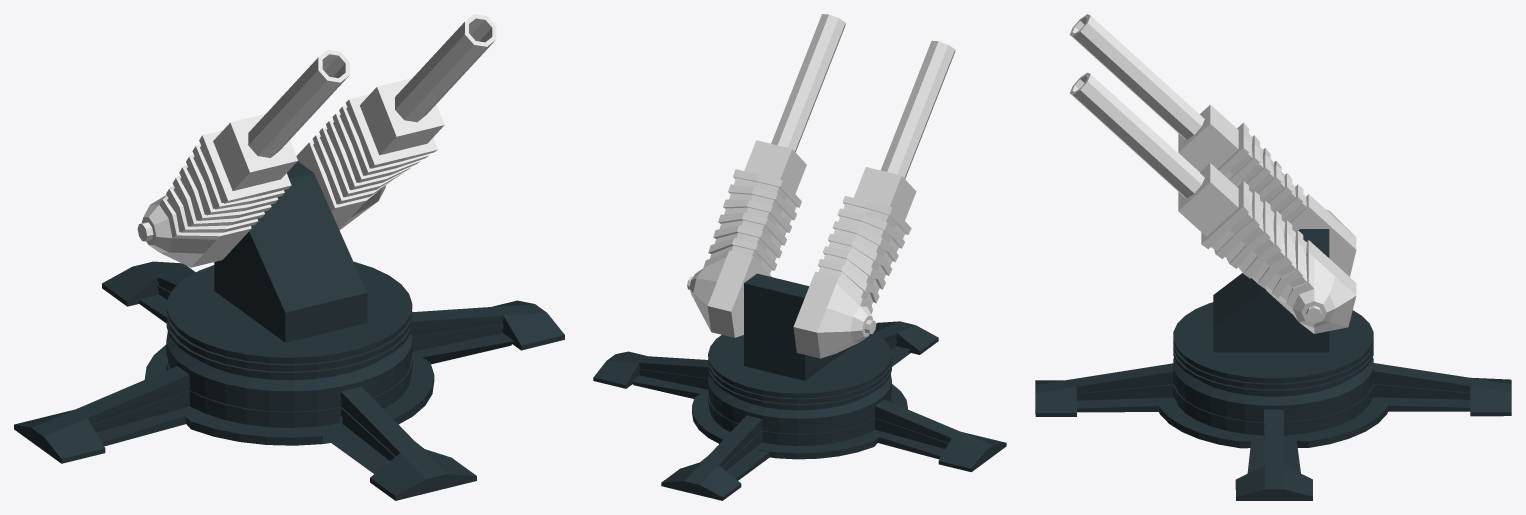
Rendered from CannonV5.fbx.
3 views of the same model, side by side, from view 1: azimuth 30°, elevation 25°; view 2: azimuth 150°, elevation 25°; view 3: azimuth 270°, elevation 25° (orthographic). The views are drawn at different scales.
Parts seen in each view (by area): view 1: Base.001, RightCannon, Pivat, LeftCannon, Base; view 2: Base.001, RightCannon, LeftCannon, Base, Pivat; view 3: Base.001, LeftCannon, RightCannon, Base, Pivat.
Boxes of the visible parts, bbox=[...] form: Base.001: bbox=[14, 261, 564, 500]; RightCannon: bbox=[137, 50, 349, 267]; Pivat: bbox=[214, 161, 367, 342]; LeftCannon: bbox=[296, 14, 496, 230]; Base: bbox=[166, 261, 412, 376]; Base.001: bbox=[593, 321, 1006, 500]; RightCannon: bbox=[793, 40, 955, 358]; LeftCannon: bbox=[687, 14, 845, 337]; Base: bbox=[708, 332, 891, 407]; Pivat: bbox=[744, 273, 853, 380]; Base.001: bbox=[1035, 357, 1511, 500]; LeftCannon: bbox=[1070, 72, 1356, 333]; RightCannon: bbox=[1069, 14, 1356, 276]; Base: bbox=[1173, 302, 1373, 393]; Pivat: bbox=[1213, 229, 1329, 352].
Bounding box in the file's own units: 415 × 343 × 415.
